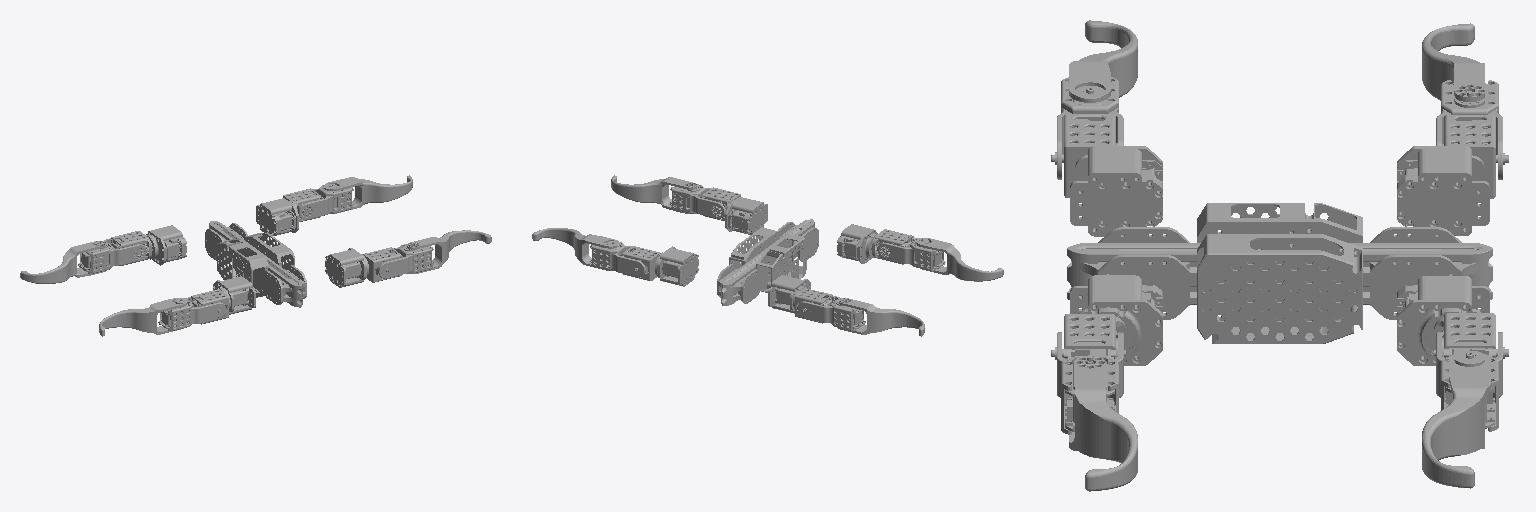
URDF robot description (sence_main):
<?xml version="1.0" ?>
<!-- =================================================================================== -->
<!-- |    This document was autogenerated by xacro from [local-path]/catkin_ws/src/sence_paper/sence_main_description/urdf/sence_comb.xacro | -->
<!-- |    EDITING THIS FILE BY HAND IS NOT RECOMMENDED                                 | -->
<!-- =================================================================================== -->
<robot name="sence_main">
  <transmission name="Rev1_tran">
    <type>transmission_interface/SimpleTransmission</type>
    <joint name="Rev1">
      <hardwareInterface>hardware_interface/EffortJointInterface</hardwareInterface>
    </joint>
    <actuator name="Rev1_actr">
      <hardwareInterface>hardware_interface/EffortJointInterface</hardwareInterface>
      <mechanicalReduction>1</mechanicalReduction>
    </actuator>
  </transmission>
  <transmission name="Rev2_tran">
    <type>transmission_interface/SimpleTransmission</type>
    <joint name="Rev2">
      <hardwareInterface>hardware_interface/EffortJointInterface</hardwareInterface>
    </joint>
    <actuator name="Rev2_actr">
      <hardwareInterface>hardware_interface/EffortJointInterface</hardwareInterface>
      <mechanicalReduction>1</mechanicalReduction>
    </actuator>
  </transmission>
  <transmission name="Rev3_tran">
    <type>transmission_interface/SimpleTransmission</type>
    <joint name="Rev3">
      <hardwareInterface>hardware_interface/EffortJointInterface</hardwareInterface>
    </joint>
    <actuator name="Rev3_actr">
      <hardwareInterface>hardware_interface/EffortJointInterface</hardwareInterface>
      <mechanicalReduction>1</mechanicalReduction>
    </actuator>
  </transmission>
  <gazebo>
    <plugin filename="libgazebo_ros_control.so" name="control"/>
  </gazebo>
  <gazebo reference="base_link">
    <material>Gazebo/Silver</material>
    <mu1>0.2</mu1>
    <mu2>0.2</mu2>
    <selfCollide>true</selfCollide>
    <gravity>true</gravity>
  </gazebo>
  <gazebo reference="HMMR_Leg_J2_v1_1">
    <material>Gazebo/Silver</material>
    <mu1>0.2</mu1>
    <mu2>0.2</mu2>
    <selfCollide>true</selfCollide>
  </gazebo>
  <gazebo reference="HMMR_Leg_J3_v1_1">
    <material>Gazebo/Silver</material>
    <mu1>0.2</mu1>
    <mu2>0.2</mu2>
    <selfCollide>true</selfCollide>
  </gazebo>
  <gazebo reference="HMMR_Leg_J4_1">
    <material>Gazebo/Silver</material>
    <mu1>0.2</mu1>
    <mu2>0.2</mu2>
    <selfCollide>true</selfCollide>
  </gazebo>
  <material name="silver">
    <color rgba="0.700 0.700 0.700 1.000"/>
  </material>
  <gazebo>
    <plugin filename="libgazebo_ros_control.so" name="control"/>
  </gazebo>
  <gazebo reference="base_link">
    <material>Gazebo/Silver</material>
    <mu1>0.2</mu1>
    <mu2>0.2</mu2>
    <selfCollide>true</selfCollide>
    <gravity>true</gravity>
  </gazebo>
  <link name="base_link">
</link>
  <link name="core">
    <inertial>
      <origin rpy="0 0 0" xyz="-0.0003058772493282508 -8.555215015878667e-05 -7.892579365353808e-05"/>
      <mass value="0.866383082373337"/>
      <inertia ixx="0.012736" ixy="-0.0" ixz="0.0" iyy="0.003778" iyz="0.0" izz="0.016249"/>
    </inertial>
    <visual>
      <origin rpy="0 0 0" xyz="0 0 0"/>
      <geometry>
        <mesh filename="package://sence_main_description/meshes/base_link.stl" scale="0.001 0.001 0.001"/>
      </geometry>
      <material name="silver"/>
    </visual>
    <collision>
      <origin rpy="0 0 0" xyz="0 0 0"/>
      <geometry>
        <mesh filename="package://sence_main_description/meshes/base_link.stl" scale="0.001 0.001 0.001"/>
      </geometry>
    </collision>
  </link>
  <joint name="con" type="fixed">
    <origin rpy="0 0 0" xyz="0 0 0"/>
    <parent link="base_link"/>
    <child link="core"/>
  </joint>
  <link name="back_right_leg_base_link">
    <inertial>
      <origin rpy="0 0 0" xyz="0.029044932513473305 0.010265080427010284 -0.03814827760382364"/>
      <mass value="0.15187448298114298"/>
      <inertia ixx="5.3e-05" ixy="-6e-06" ixz="0.0" iyy="6.1e-05" iyz="0.0" izz="6.9e-05"/>
    </inertial>
    <visual>
      <origin rpy="0 0 0" xyz="0 0 0"/>
      <geometry>
        <mesh filename="package://sence_leg_description/meshes/base_link.stl" scale="0.001 0.001 0.001"/>
      </geometry>
      <material name="silver"/>
    </visual>
    <collision>
      <origin rpy="0 0 0" xyz="0 0 0"/>
      <geometry>
        <mesh filename="package://sence_leg_description/meshes/base_link.stl" scale="0.001 0.001 0.001"/>
      </geometry>
    </collision>
  </link>
  <link name="back_right_leg_HMMR_Leg_J2_v1_1">
    <inertial>
      <origin rpy="0 0 0" xyz="-0.04078394902352935 -0.013231283994066126 0.00021684450055575039"/>
      <mass value="0.09734685103972182"/>
      <inertia ixx="2.2e-05" ixy="-2e-06" ixz="0.0" iyy="3.6e-05" iyz="0.0" izz="4e-05"/>
    </inertial>
    <visual>
      <origin rpy="0 0 0" xyz="-0.01348 -0.002676 0.038139"/>
      <geometry>
        <mesh filename="package://sence_leg_description/meshes/HMMR_Leg_J2_v1_1.stl" scale="0.001 0.001 0.001"/>
      </geometry>
      <material name="silver"/>
    </visual>
    <collision>
      <origin rpy="0 0 0" xyz="-0.01348 -0.002676 0.038139"/>
      <geometry>
        <mesh filename="package://sence_leg_description/meshes/HMMR_Leg_J2_v1_1.stl" scale="0.001 0.001 0.001"/>
      </geometry>
    </collision>
  </link>
  <link name="back_right_leg_HMMR_Leg_J3_v1_1">
    <inertial>
      <origin rpy="0 0 0" xyz="-0.06366942125676311 -0.021943300476205383 0.0024103683252244337"/>
      <mass value="0.1208747488020619"/>
      <inertia ixx="3.4e-05" ixy="1.4e-05" ixz="2e-06" iyy="0.000102" iyz="-1e-06" izz="0.000104"/>
    </inertial>
    <visual>
      <origin rpy="0 0 0" xyz="0.020447 -0.009456 0.037939"/>
      <geometry>
        <mesh filename="package://sence_leg_description/meshes/HMMR_Leg_J3_v1_1.stl" scale="0.001 0.001 0.001"/>
      </geometry>
      <material name="silver"/>
    </visual>
    <collision>
      <origin rpy="0 0 0" xyz="0.020447 -0.009456 0.037939"/>
      <geometry>
        <mesh filename="package://sence_leg_description/meshes/HMMR_Leg_J3_v1_1.stl" scale="0.001 0.001 0.001"/>
      </geometry>
    </collision>
  </link>
  <link name="back_right_leg_HMMR_Leg_J4_1">
    <inertial>
      <origin rpy="0 0 0" xyz="-0.06827181090766318 0.01066089288586344 0.020893759814543007"/>
      <mass value="0.052701725493830516"/>
      <inertia ixx="1.8e-05" ixy="1.4e-05" ixz="-1e-06" iyy="7.3e-05" iyz="0.0" izz="7.2e-05"/>
    </inertial>
    <visual>
      <origin rpy="0 0 0" xyz="0.085454 0.010544 0.057414"/>
      <geometry>
        <mesh filename="package://sence_leg_description/meshes/HMMR_Leg_J4_1.stl" scale="0.001 0.001 0.001"/>
      </geometry>
      <material name="silver"/>
    </visual>
    <collision>
      <origin rpy="0 0 0" xyz="0.085454 0.010544 0.057414"/>
      <geometry>
        <mesh filename="package://sence_leg_description/meshes/HMMR_Leg_J4_1.stl" scale="0.001 0.001 0.001"/>
      </geometry>
    </collision>
  </link>
  <joint name="back_right_leg_system_connection" type="fixed">
    <origin rpy="0 3.14159 0" xyz="0.1438 -0.1250 -0.0381"/>
    <parent link="core"/>
    <child link="back_right_leg_base_link"/>
  </joint>
  <joint name="back_right_leg_Rev1" type="continuous">
    <origin rpy="0 0 0" xyz="0.01348 0.002676 -0.038139"/>
    <parent link="back_right_leg_base_link"/>
    <child link="back_right_leg_HMMR_Leg_J2_v1_1"/>
    <axis xyz="1.0 0.0 -0.0"/>
  </joint>
  <joint name="back_right_leg_Rev2" type="revolute">
    <origin rpy="0 0 0" xyz="-0.033927 0.00678 0.0002"/>
    <parent link="back_right_leg_HMMR_Leg_J2_v1_1"/>
    <child link="back_right_leg_HMMR_Leg_J3_v1_1"/>
    <axis xyz="0.0 -1.0 0.0"/>
    <limit effort="100" lower="-1.919862" upper="1.919862" velocity="100"/>
  </joint>
  <joint name="back_right_leg_Rev3" type="revolute">
    <origin rpy="0 0 0" xyz="-0.065007 -0.02 -0.019475"/>
    <parent link="back_right_leg_HMMR_Leg_J3_v1_1"/>
    <child link="back_right_leg_HMMR_Leg_J4_1"/>
    <axis xyz="-0.0 -0.0 1.0"/>
    <limit effort="100" lower="-2.268928" upper="2.356194" velocity="100"/>
  </joint>
  <link name="back_left_leg_base_link">
    <inertial>
      <origin rpy="0 0 0" xyz="0.029044932513473305 0.010265080427010284 -0.03814827760382364"/>
      <mass value="0.15187448298114298"/>
      <inertia ixx="5.3e-05" ixy="-6e-06" ixz="0.0" iyy="6.1e-05" iyz="0.0" izz="6.9e-05"/>
    </inertial>
    <visual>
      <origin rpy="0 0 0" xyz="0 0 0"/>
      <geometry>
        <mesh filename="package://sence_leg_description/meshes/base_link.stl" scale="0.001 0.001 0.001"/>
      </geometry>
      <material name="silver"/>
    </visual>
    <collision>
      <origin rpy="0 0 0" xyz="0 0 0"/>
      <geometry>
        <mesh filename="package://sence_leg_description/meshes/base_link.stl" scale="0.001 0.001 0.001"/>
      </geometry>
    </collision>
  </link>
  <link name="back_left_leg_HMMR_Leg_J2_v1_1">
    <inertial>
      <origin rpy="0 0 0" xyz="-0.04078394902352935 -0.013231283994066126 0.00021684450055575039"/>
      <mass value="0.09734685103972182"/>
      <inertia ixx="2.2e-05" ixy="-2e-06" ixz="0.0" iyy="3.6e-05" iyz="0.0" izz="4e-05"/>
    </inertial>
    <visual>
      <origin rpy="0 0 0" xyz="-0.01348 -0.002676 0.038139"/>
      <geometry>
        <mesh filename="package://sence_leg_description/meshes/HMMR_Leg_J2_v1_1.stl" scale="0.001 0.001 0.001"/>
      </geometry>
      <material name="silver"/>
    </visual>
    <collision>
      <origin rpy="0 0 0" xyz="-0.01348 -0.002676 0.038139"/>
      <geometry>
        <mesh filename="package://sence_leg_description/meshes/HMMR_Leg_J2_v1_1.stl" scale="0.001 0.001 0.001"/>
      </geometry>
    </collision>
  </link>
  <link name="back_left_leg_HMMR_Leg_J3_v1_1">
    <inertial>
      <origin rpy="0 0 0" xyz="-0.06366942125676311 -0.021943300476205383 0.0024103683252244337"/>
      <mass value="0.1208747488020619"/>
      <inertia ixx="3.4e-05" ixy="1.4e-05" ixz="2e-06" iyy="0.000102" iyz="-1e-06" izz="0.000104"/>
    </inertial>
    <visual>
      <origin rpy="0 0 0" xyz="0.020447 -0.009456 0.037939"/>
      <geometry>
        <mesh filename="package://sence_leg_description/meshes/HMMR_Leg_J3_v1_1.stl" scale="0.001 0.001 0.001"/>
      </geometry>
      <material name="silver"/>
    </visual>
    <collision>
      <origin rpy="0 0 0" xyz="0.020447 -0.009456 0.037939"/>
      <geometry>
        <mesh filename="package://sence_leg_description/meshes/HMMR_Leg_J3_v1_1.stl" scale="0.001 0.001 0.001"/>
      </geometry>
    </collision>
  </link>
  <link name="back_left_leg_HMMR_Leg_J4_1">
    <inertial>
      <origin rpy="0 0 0" xyz="-0.06827181090766318 0.01066089288586344 0.020893759814543007"/>
      <mass value="0.052701725493830516"/>
      <inertia ixx="1.8e-05" ixy="1.4e-05" ixz="-1e-06" iyy="7.3e-05" iyz="0.0" izz="7.2e-05"/>
    </inertial>
    <visual>
      <origin rpy="0 0 0" xyz="0.085454 0.010544 0.057414"/>
      <geometry>
        <mesh filename="package://sence_leg_description/meshes/HMMR_Leg_J4_1.stl" scale="0.001 0.001 0.001"/>
      </geometry>
      <material name="silver"/>
    </visual>
    <collision>
      <origin rpy="0 0 0" xyz="0.085454 0.010544 0.057414"/>
      <geometry>
        <mesh filename="package://sence_leg_description/meshes/HMMR_Leg_J4_1.stl" scale="0.001 0.001 0.001"/>
      </geometry>
    </collision>
  </link>
  <joint name="back_left_leg_system_connection" type="fixed">
    <origin rpy="0 0 0" xyz="-0.1438 -0.1250 0.0381"/>
    <parent link="core"/>
    <child link="back_left_leg_base_link"/>
  </joint>
  <joint name="back_left_leg_Rev1" type="continuous">
    <origin rpy="0 0 0" xyz="0.01348 0.002676 -0.038139"/>
    <parent link="back_left_leg_base_link"/>
    <child link="back_left_leg_HMMR_Leg_J2_v1_1"/>
    <axis xyz="1.0 0.0 -0.0"/>
  </joint>
  <joint name="back_left_leg_Rev2" type="revolute">
    <origin rpy="0 0 0" xyz="-0.033927 0.00678 0.0002"/>
    <parent link="back_left_leg_HMMR_Leg_J2_v1_1"/>
    <child link="back_left_leg_HMMR_Leg_J3_v1_1"/>
    <axis xyz="0.0 -1.0 0.0"/>
    <limit effort="100" lower="-1.919862" upper="1.919862" velocity="100"/>
  </joint>
  <joint name="back_left_leg_Rev3" type="revolute">
    <origin rpy="0 0 0" xyz="-0.065007 -0.02 -0.019475"/>
    <parent link="back_left_leg_HMMR_Leg_J3_v1_1"/>
    <child link="back_left_leg_HMMR_Leg_J4_1"/>
    <axis xyz="-0.0 -0.0 1.0"/>
    <limit effort="100" lower="-2.268928" upper="2.356194" velocity="100"/>
  </joint>
  <link name="front_right_leg_base_link">
    <inertial>
      <origin rpy="0 0 0" xyz="0.029044932513473305 0.010265080427010284 -0.03814827760382364"/>
      <mass value="0.15187448298114298"/>
      <inertia ixx="5.3e-05" ixy="-6e-06" ixz="0.0" iyy="6.1e-05" iyz="0.0" izz="6.9e-05"/>
    </inertial>
    <visual>
      <origin rpy="0 0 0" xyz="0 0 0"/>
      <geometry>
        <mesh filename="package://sence_leg_description/meshes/base_link.stl" scale="0.001 0.001 0.001"/>
      </geometry>
      <material name="silver"/>
    </visual>
    <collision>
      <origin rpy="0 0 0" xyz="0 0 0"/>
      <geometry>
        <mesh filename="package://sence_leg_description/meshes/base_link.stl" scale="0.001 0.001 0.001"/>
      </geometry>
    </collision>
  </link>
  <link name="front_right_leg_HMMR_Leg_J2_v1_1">
    <inertial>
      <origin rpy="0 0 0" xyz="-0.04078394902352935 -0.013231283994066126 0.00021684450055575039"/>
      <mass value="0.09734685103972182"/>
      <inertia ixx="2.2e-05" ixy="-2e-06" ixz="0.0" iyy="3.6e-05" iyz="0.0" izz="4e-05"/>
    </inertial>
    <visual>
      <origin rpy="0 0 0" xyz="-0.01348 -0.002676 0.038139"/>
      <geometry>
        <mesh filename="package://sence_leg_description/meshes/HMMR_Leg_J2_v1_1.stl" scale="0.001 0.001 0.001"/>
      </geometry>
      <material name="silver"/>
    </visual>
    <collision>
      <origin rpy="0 0 0" xyz="-0.01348 -0.002676 0.038139"/>
      <geometry>
        <mesh filename="package://sence_leg_description/meshes/HMMR_Leg_J2_v1_1.stl" scale="0.001 0.001 0.001"/>
      </geometry>
    </collision>
  </link>
  <link name="front_right_leg_HMMR_Leg_J3_v1_1">
    <inertial>
      <origin rpy="0 0 0" xyz="-0.06366942125676311 -0.021943300476205383 0.0024103683252244337"/>
      <mass value="0.1208747488020619"/>
      <inertia ixx="3.4e-05" ixy="1.4e-05" ixz="2e-06" iyy="0.000102" iyz="-1e-06" izz="0.000104"/>
    </inertial>
    <visual>
      <origin rpy="0 0 0" xyz="0.020447 -0.009456 0.037939"/>
      <geometry>
        <mesh filename="package://sence_leg_description/meshes/HMMR_Leg_J3_v1_1.stl" scale="0.001 0.001 0.001"/>
      </geometry>
      <material name="silver"/>
    </visual>
    <collision>
      <origin rpy="0 0 0" xyz="0.020447 -0.009456 0.037939"/>
      <geometry>
        <mesh filename="package://sence_leg_description/meshes/HMMR_Leg_J3_v1_1.stl" scale="0.001 0.001 0.001"/>
      </geometry>
    </collision>
  </link>
  <link name="front_right_leg_HMMR_Leg_J4_1">
    <inertial>
      <origin rpy="0 0 0" xyz="-0.06827181090766318 0.01066089288586344 0.020893759814543007"/>
      <mass value="0.052701725493830516"/>
      <inertia ixx="1.8e-05" ixy="1.4e-05" ixz="-1e-06" iyy="7.3e-05" iyz="0.0" izz="7.2e-05"/>
    </inertial>
    <visual>
      <origin rpy="0 0 0" xyz="0.085454 0.010544 0.057414"/>
      <geometry>
        <mesh filename="package://sence_leg_description/meshes/HMMR_Leg_J4_1.stl" scale="0.001 0.001 0.001"/>
      </geometry>
      <material name="silver"/>
    </visual>
    <collision>
      <origin rpy="0 0 0" xyz="0.085454 0.010544 0.057414"/>
      <geometry>
        <mesh filename="package://sence_leg_description/meshes/HMMR_Leg_J4_1.stl" scale="0.001 0.001 0.001"/>
      </geometry>
    </collision>
  </link>
  <joint name="front_right_leg_system_connection" type="fixed">
    <origin rpy="3.14159 3.14159 0" xyz="0.1438 0.1250 0.0381"/>
    <parent link="core"/>
    <child link="front_right_leg_base_link"/>
  </joint>
  <joint name="front_right_leg_Rev1" type="continuous">
    <origin rpy="0 0 0" xyz="0.01348 0.002676 -0.038139"/>
    <parent link="front_right_leg_base_link"/>
    <child link="front_right_leg_HMMR_Leg_J2_v1_1"/>
    <axis xyz="1.0 0.0 -0.0"/>
  </joint>
  <joint name="front_right_leg_Rev2" type="revolute">
    <origin rpy="0 0 0" xyz="-0.033927 0.00678 0.0002"/>
    <parent link="front_right_leg_HMMR_Leg_J2_v1_1"/>
    <child link="front_right_leg_HMMR_Leg_J3_v1_1"/>
    <axis xyz="0.0 -1.0 0.0"/>
    <limit effort="100" lower="-1.919862" upper="1.919862" velocity="100"/>
  </joint>
  <joint name="front_right_leg_Rev3" type="revolute">
    <origin rpy="0 0 0" xyz="-0.065007 -0.02 -0.019475"/>
    <parent link="front_right_leg_HMMR_Leg_J3_v1_1"/>
    <child link="front_right_leg_HMMR_Leg_J4_1"/>
    <axis xyz="-0.0 -0.0 1.0"/>
    <limit effort="100" lower="-2.268928" upper="2.356194" velocity="100"/>
  </joint>
  <link name="front_left_leg_base_link">
    <inertial>
      <origin rpy="0 0 0" xyz="0.029044932513473305 0.010265080427010284 -0.03814827760382364"/>
      <mass value="0.15187448298114298"/>
      <inertia ixx="5.3e-05" ixy="-6e-06" ixz="0.0" iyy="6.1e-05" iyz="0.0" izz="6.9e-05"/>
    </inertial>
    <visual>
      <origin rpy="0 0 0" xyz="0 0 0"/>
      <geometry>
        <mesh filename="package://sence_leg_description/meshes/base_link.stl" scale="0.001 0.001 0.001"/>
      </geometry>
      <material name="silver"/>
    </visual>
    <collision>
      <origin rpy="0 0 0" xyz="0 0 0"/>
      <geometry>
        <mesh filename="package://sence_leg_description/meshes/base_link.stl" scale="0.001 0.001 0.001"/>
      </geometry>
    </collision>
  </link>
  <link name="front_left_leg_HMMR_Leg_J2_v1_1">
    <inertial>
      <origin rpy="0 0 0" xyz="-0.04078394902352935 -0.013231283994066126 0.00021684450055575039"/>
      <mass value="0.09734685103972182"/>
      <inertia ixx="2.2e-05" ixy="-2e-06" ixz="0.0" iyy="3.6e-05" iyz="0.0" izz="4e-05"/>
    </inertial>
    <visual>
      <origin rpy="0 0 0" xyz="-0.01348 -0.002676 0.038139"/>
      <geometry>
        <mesh filename="package://sence_leg_description/meshes/HMMR_Leg_J2_v1_1.stl" scale="0.001 0.001 0.001"/>
      </geometry>
      <material name="silver"/>
    </visual>
    <collision>
      <origin rpy="0 0 0" xyz="-0.01348 -0.002676 0.038139"/>
      <geometry>
        <mesh filename="package://sence_leg_description/meshes/HMMR_Leg_J2_v1_1.stl" scale="0.001 0.001 0.001"/>
      </geometry>
    </collision>
  </link>
  <link name="front_left_leg_HMMR_Leg_J3_v1_1">
    <inertial>
      <origin rpy="0 0 0" xyz="-0.06366942125676311 -0.021943300476205383 0.0024103683252244337"/>
      <mass value="0.1208747488020619"/>
      <inertia ixx="3.4e-05" ixy="1.4e-05" ixz="2e-06" iyy="0.000102" iyz="-1e-06" izz="0.000104"/>
    </inertial>
    <visual>
      <origin rpy="0 0 0" xyz="0.020447 -0.009456 0.037939"/>
      <geometry>
        <mesh filename="package://sence_leg_description/meshes/HMMR_Leg_J3_v1_1.stl" scale="0.001 0.001 0.001"/>
      </geometry>
      <material name="silver"/>
    </visual>
    <collision>
      <origin rpy="0 0 0" xyz="0.020447 -0.009456 0.037939"/>
      <geometry>
        <mesh filename="package://sence_leg_description/meshes/HMMR_Leg_J3_v1_1.stl" scale="0.001 0.001 0.001"/>
      </geometry>
    </collision>
  </link>
  <link name="front_left_leg_HMMR_Leg_J4_1">
    <inertial>
      <origin rpy="0 0 0" xyz="-0.06827181090766318 0.01066089288586344 0.020893759814543007"/>
      <mass value="0.052701725493830516"/>
      <inertia ixx="1.8e-05" ixy="1.4e-05" ixz="-1e-06" iyy="7.3e-05" iyz="0.0" izz="7.2e-05"/>
    </inertial>
    <visual>
      <origin rpy="0 0 0" xyz="0.085454 0.010544 0.057414"/>
      <geometry>
        <mesh filename="package://sence_leg_description/meshes/HMMR_Leg_J4_1.stl" scale="0.001 0.001 0.001"/>
      </geometry>
      <material name="silver"/>
    </visual>
    <collision>
      <origin rpy="0 0 0" xyz="0.085454 0.010544 0.057414"/>
      <geometry>
        <mesh filename="package://sence_leg_description/meshes/HMMR_Leg_J4_1.stl" scale="0.001 0.001 0.001"/>
      </geometry>
    </collision>
  </link>
  <joint name="front_left_leg_system_connection" type="fixed">
    <origin rpy="3.14159 0 0" xyz="-0.1438 0.1250 -0.0381"/>
    <parent link="core"/>
    <child link="front_left_leg_base_link"/>
  </joint>
  <joint name="front_left_leg_Rev1" type="continuous">
    <origin rpy="0 0 0" xyz="0.01348 0.002676 -0.038139"/>
    <parent link="front_left_leg_base_link"/>
    <child link="front_left_leg_HMMR_Leg_J2_v1_1"/>
    <axis xyz="1.0 0.0 -0.0"/>
  </joint>
  <joint name="front_left_leg_Rev2" type="revolute">
    <origin rpy="0 0 0" xyz="-0.033927 0.00678 0.0002"/>
    <parent link="front_left_leg_HMMR_Leg_J2_v1_1"/>
    <child link="front_left_leg_HMMR_Leg_J3_v1_1"/>
    <axis xyz="0.0 -1.0 0.0"/>
    <limit effort="100" lower="-1.919862" upper="1.919862" velocity="100"/>
  </joint>
  <joint name="front_left_leg_Rev3" type="revolute">
    <origin rpy="0 0 0" xyz="-0.065007 -0.02 -0.019475"/>
    <parent link="front_left_leg_HMMR_Leg_J3_v1_1"/>
    <child link="front_left_leg_HMMR_Leg_J4_1"/>
    <axis xyz="-0.0 -0.0 1.0"/>
    <limit effort="100" lower="-2.268928" upper="2.356194" velocity="100"/>
  </joint>
</robot>

--- What the picture shows (computed from the rendered views, not written in the file) ---
The picture shows the robot from 3 angles, left to right: view 1: azimuth 30°, elevation 25°; view 2: azimuth 150°, elevation 25°; view 3: azimuth 270°, elevation 25°; orthographic projection.
Model sence_main with 18 links and 17 joints (8 revolute, 4 continuous, 5 fixed), rooted at base_link, posed every joint at zero.
Links seen in each view (by area): view 1: core, back_left_leg_HMMR_Leg_J4_1, front_right_leg_HMMR_Leg_J4_1, back_right_leg_base_link, front_left_leg_HMMR_Leg_J3_v1_1, front_right_leg_base_link, back_left_leg_HMMR_Leg_J3_v1_1, front_left_leg_HMMR_Leg_J4_1, back_right_leg_HMMR_Leg_J4_1, front_right_leg_HMMR_Leg_J3_v1_1, back_right_leg_HMMR_Leg_J3_v1_1, front_left_leg_base_link (+4 smaller); view 2: core, front_left_leg_HMMR_Leg_J4_1, back_right_leg_HMMR_Leg_J4_1, front_right_leg_base_link, front_left_leg_HMMR_Leg_J3_v1_1, back_right_leg_base_link, back_left_leg_HMMR_Leg_J3_v1_1, back_left_leg_HMMR_Leg_J4_1, front_right_leg_HMMR_Leg_J4_1, front_right_leg_HMMR_Leg_J3_v1_1, back_right_leg_HMMR_Leg_J3_v1_1, back_left_leg_base_link (+4 smaller); view 3: core, back_left_leg_base_link, front_left_leg_base_link, front_right_leg_HMMR_Leg_J4_1, back_right_leg_HMMR_Leg_J4_1, back_right_leg_base_link, front_right_leg_base_link, back_left_leg_HMMR_Leg_J4_1, front_left_leg_HMMR_Leg_J4_1, back_right_leg_HMMR_Leg_J2_v1_1, back_right_leg_HMMR_Leg_J3_v1_1, front_right_leg_HMMR_Leg_J2_v1_1 (+5 smaller).
Link boxes in pixels (x1,y1,x2,y2): core: (205,221,306,307); back_left_leg_HMMR_Leg_J4_1: (99,298,187,336); front_right_leg_HMMR_Leg_J4_1: (325,175,412,213); back_right_leg_base_link: (325,248,368,287); front_left_leg_HMMR_Leg_J3_v1_1: (78,239,146,273); front_right_leg_base_link: (256,198,298,235); back_left_leg_HMMR_Leg_J3_v1_1: (158,297,226,330); front_left_leg_HMMR_Leg_J4_1: (20,241,106,283); back_right_leg_HMMR_Leg_J4_1: (407,230,491,273); front_right_leg_HMMR_Leg_J3_v1_1: (298,184,353,219); back_right_leg_HMMR_Leg_J3_v1_1: (378,244,433,278); front_left_leg_base_link: (146,225,186,265); core: (717,219,818,305); front_left_leg_HMMR_Leg_J4_1: (838,298,924,336); back_right_leg_HMMR_Leg_J4_1: (611,175,696,213); front_right_leg_base_link: (655,246,698,286); front_left_leg_HMMR_Leg_J3_v1_1: (797,296,865,330); back_right_leg_base_link: (725,197,767,234); back_left_leg_HMMR_Leg_J3_v1_1: (877,238,945,271); back_left_leg_HMMR_Leg_J4_1: (916,238,1003,281); front_right_leg_HMMR_Leg_J4_1: (532,228,619,270); front_right_leg_HMMR_Leg_J3_v1_1: (590,241,645,276); back_right_leg_HMMR_Leg_J3_v1_1: (670,184,725,218); back_left_leg_base_link: (837,224,877,263); core: (1067,203,1492,343); back_left_leg_base_link: (1070,146,1162,236); front_left_leg_base_link: (1397,146,1489,235); front_right_leg_HMMR_Leg_J4_1: (1422,352,1490,488); back_right_leg_HMMR_Leg_J4_1: (1069,356,1137,491); back_right_leg_base_link: (1070,275,1162,365); front_right_leg_base_link: (1397,276,1489,365); back_left_leg_HMMR_Leg_J4_1: (1069,20,1137,102); front_left_leg_HMMR_Leg_J4_1: (1422,23,1484,101); back_right_leg_HMMR_Leg_J2_v1_1: (1051,314,1125,359); back_right_leg_HMMR_Leg_J3_v1_1: (1057,332,1123,434); front_right_leg_HMMR_Leg_J2_v1_1: (1434,313,1508,358).
Size in the robot's own frame: 0.7638 by 0.3267 by 0.0771 metres.
Meshes: 5 distinct files referenced, 17 mesh visuals loaded (5 binary STL).